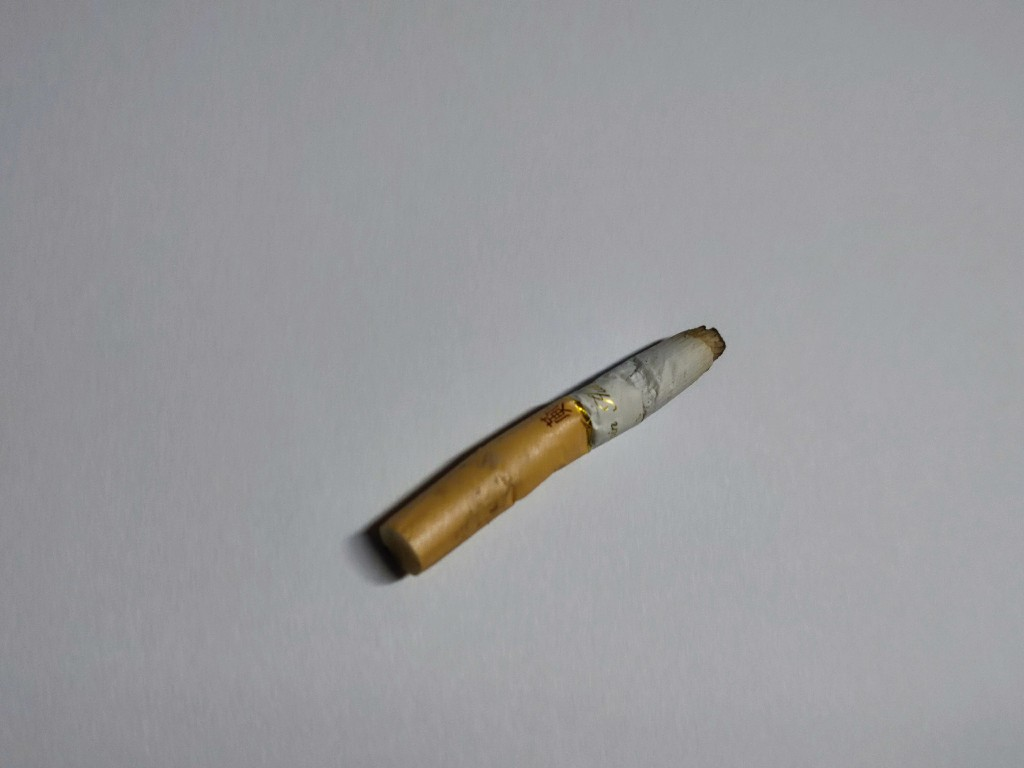cigarette: (376, 322, 731, 579)
